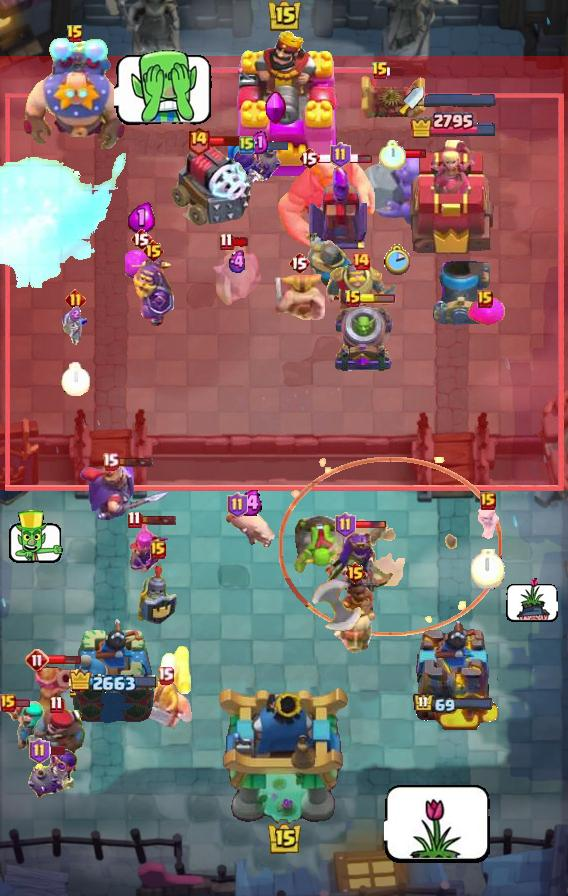archer-evolution: (122, 517, 168, 587)
axe: (295, 578, 363, 632)
bar: (318, 152, 373, 165), (208, 134, 245, 147), (140, 514, 177, 526), (117, 456, 154, 468), (47, 654, 82, 666), (391, 148, 428, 159), (253, 140, 289, 151), (360, 294, 396, 304), (353, 520, 387, 530), (231, 236, 250, 248), (47, 745, 67, 756), (386, 66, 406, 77), (12, 698, 31, 708)
bar-level: (186, 125, 211, 156), (25, 648, 49, 672), (344, 561, 367, 585), (142, 239, 165, 263), (29, 738, 50, 764), (335, 512, 356, 538), (227, 492, 248, 518), (330, 142, 351, 168), (288, 251, 310, 275), (130, 227, 152, 251), (298, 146, 320, 170), (65, 289, 86, 310), (351, 251, 371, 271), (344, 289, 362, 309), (371, 61, 389, 81), (66, 24, 84, 44), (157, 666, 174, 685), (102, 452, 119, 471), (239, 135, 255, 155), (0, 694, 16, 712), (150, 541, 166, 559), (480, 492, 496, 510), (477, 290, 493, 308), (49, 695, 64, 714), (127, 510, 142, 529), (219, 232, 234, 251)
bomber-evolution: (232, 141, 284, 197), (27, 747, 79, 801)
clock: (471, 549, 505, 589), (61, 362, 90, 396), (383, 244, 410, 275), (379, 140, 406, 170)
dagger-duchess-tower: (409, 138, 497, 256)
dagger-duchess-tower-bar: (424, 93, 496, 107)
elite-barbarian: (139, 677, 192, 729), (273, 271, 325, 321)
elixir: (128, 202, 155, 234), (238, 490, 265, 516), (227, 250, 249, 274), (248, 130, 268, 154), (69, 306, 81, 322)
elixir-golem-small: (465, 298, 505, 326), (125, 250, 157, 280)
emote: (384, 783, 491, 864), (114, 47, 213, 126), (7, 510, 65, 566), (505, 576, 558, 623)
evolution-symbol: (265, 91, 287, 125)
firecracker: (151, 643, 193, 701)
goblin-ball: (291, 514, 345, 576)
guard: (133, 563, 183, 627)
hog: (223, 503, 279, 553)
hunter: (24, 706, 88, 760)
king-tower: (216, 684, 352, 826), (228, 29, 340, 181)
knight: (326, 263, 397, 323), (305, 233, 358, 302)
knight-evolution: (132, 257, 174, 327)
mortar: (431, 261, 491, 325)
mortar-evolution: (331, 304, 395, 374)
musketeer: (34, 660, 76, 730)
queen-tower: (405, 617, 501, 731), (70, 616, 158, 731)
ram-rider: (332, 573, 378, 653)
rascal-girl: (0, 700, 46, 752)
royal-ghost: (210, 242, 266, 308)
skeleton: (474, 506, 502, 540)
skeleton-evolution: (62, 310, 88, 348)
tesla: (357, 73, 427, 123)
tower-bar: (409, 110, 498, 138), (69, 669, 160, 696), (413, 693, 494, 715)
